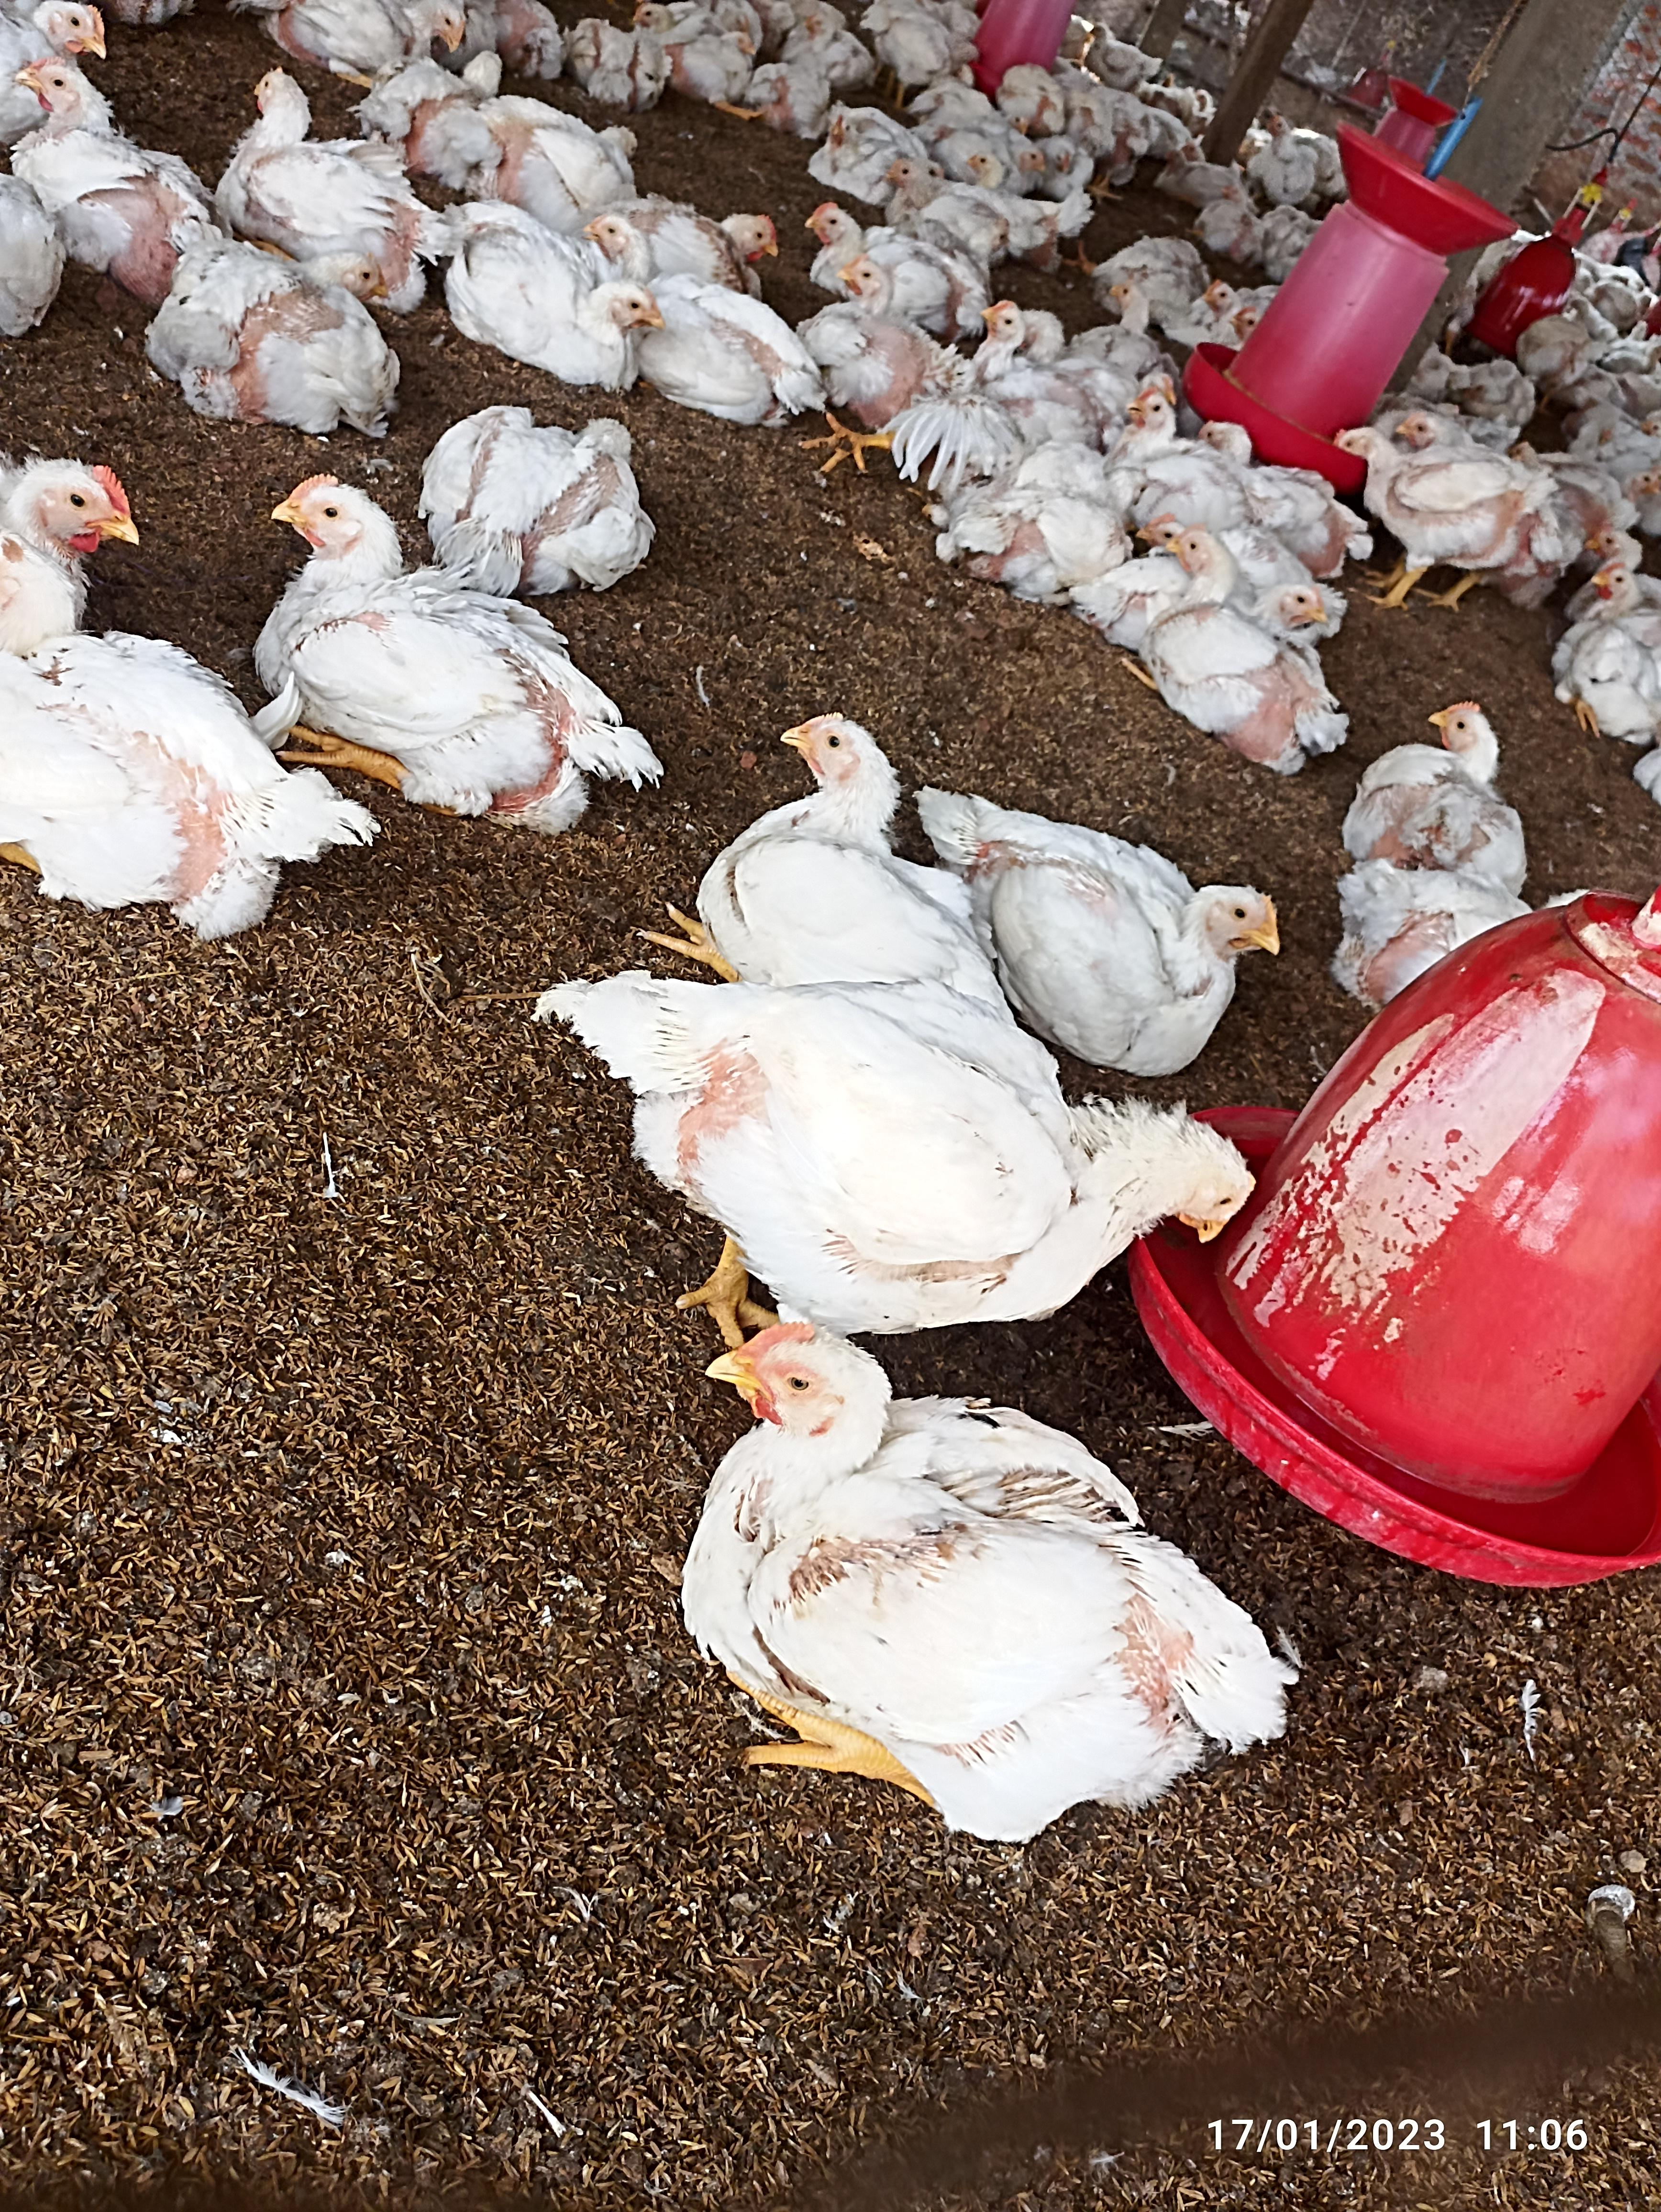Pollos: (703, 1326, 1281, 1774), (565, 961, 1244, 1305), (0, 448, 269, 944), (262, 476, 619, 809), (946, 766, 1288, 1045), (735, 705, 974, 998), (1328, 694, 1546, 991), (407, 412, 684, 586), (147, 206, 373, 419), (1338, 412, 1553, 581), (9, 51, 171, 249), (447, 223, 642, 387), (222, 65, 417, 220), (797, 260, 949, 455), (612, 274, 782, 441), (1183, 563, 1347, 719), (794, 202, 956, 297), (1118, 384, 1227, 520)
